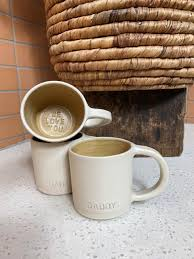mug: (67, 134, 183, 226), (10, 80, 122, 146), (20, 120, 98, 203)
